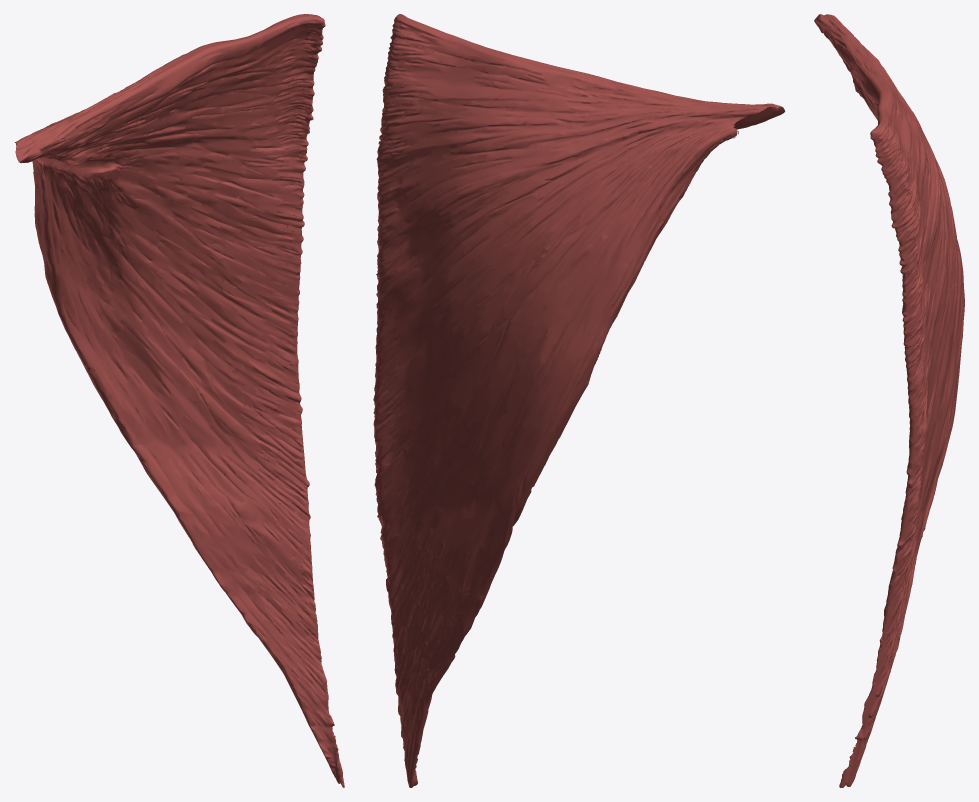
File: FMA33581.glb
The picture shows the model from 3 angles, left to right: view 1: azimuth 30°, elevation 25°; view 2: azimuth 150°, elevation 25°; view 3: azimuth 270°, elevation 25°; orthographic projection. The views are drawn at different scales.
Visible parts, largest first — view 1: FMA33581; view 2: FMA33581; view 3: FMA33581.
Part boxes in pixels (x1,y1,x2,y2): FMA33581: (14,14,344,787); FMA33581: (373,14,785,787); FMA33581: (814,14,964,787).
Size of the model in its own units: 0.1346 by 0.2849 by 0.0593.
